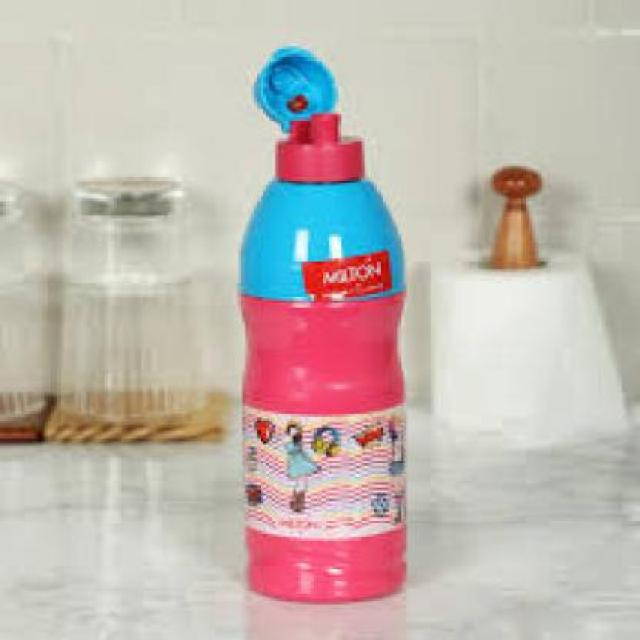Drinking: (237, 84, 428, 610)
